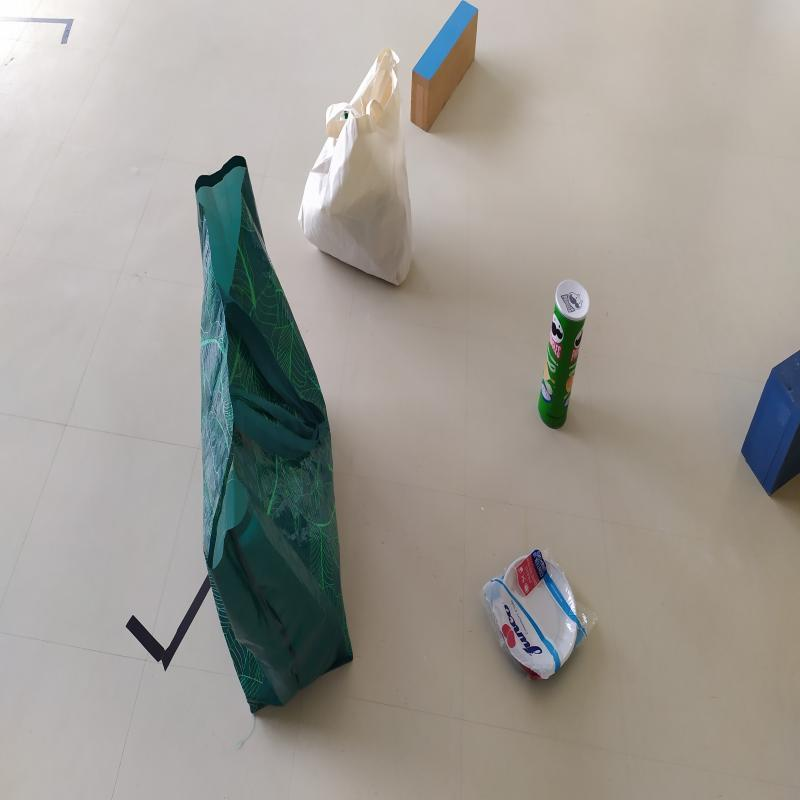Bag: (196, 160, 351, 724), (299, 45, 413, 289)
Plate: (498, 545, 582, 684)
Pringles: (535, 279, 590, 433)
